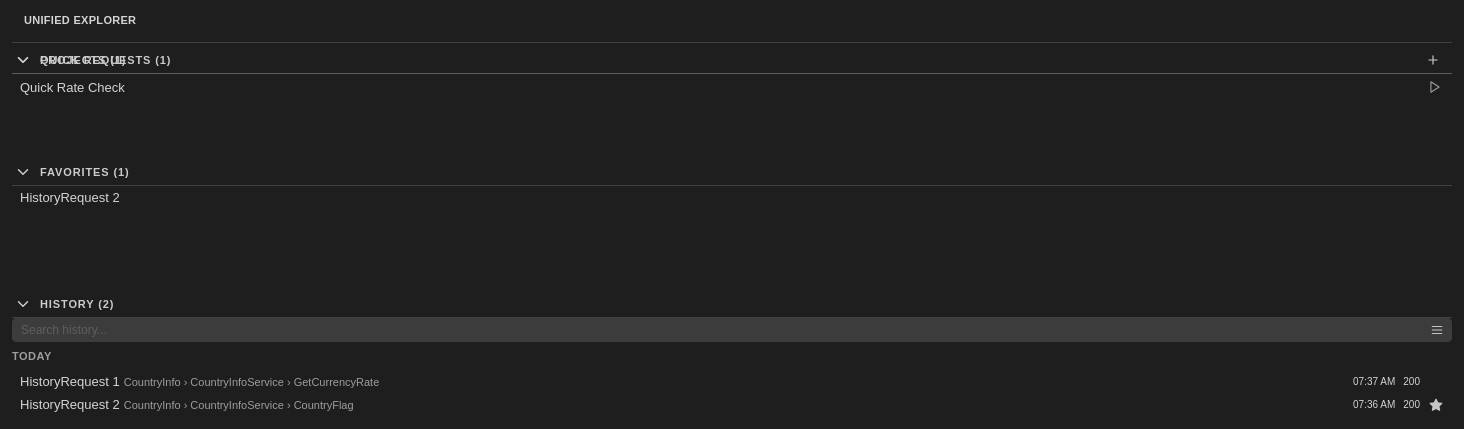
UnifiedExplorerSidebar — accordion sections › collapses Favorites to its header row (body + resize handle hidden)
The image size is (1464, 429).
Click the button "Favorites (1)": point(85, 172) x1=14 y1=163 x2=1440 y2=181
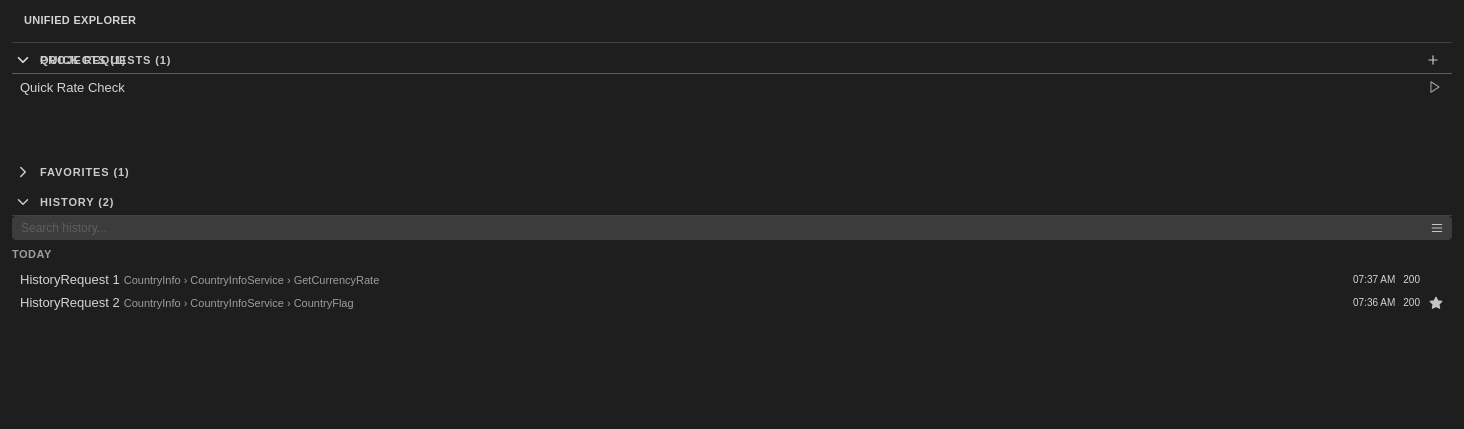
Expected: the element with test id "unified-favorites-section-header" is shown, x1=12 y1=155 x2=1452 y2=185
Now the element with test id "unified-favorites-body" is gone
